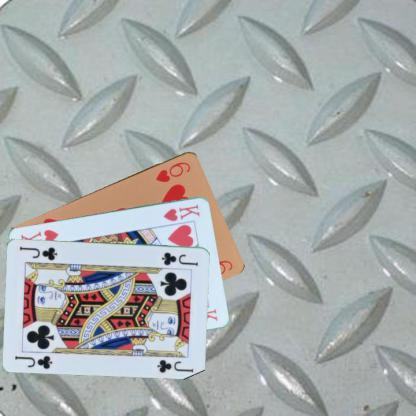6h: (154, 159, 192, 184)
Jc: (159, 249, 200, 268), (13, 353, 54, 370)
Kh: (161, 201, 202, 222)
